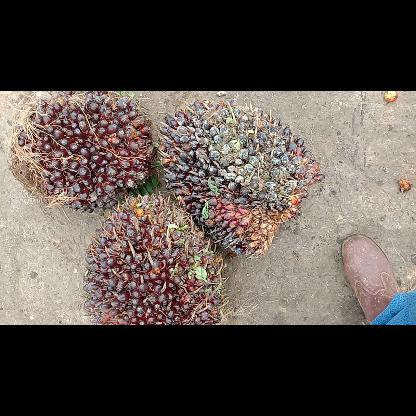Kurang masak: (85, 193, 224, 323), (10, 91, 154, 211)
TBS mentah: (155, 97, 321, 263)
